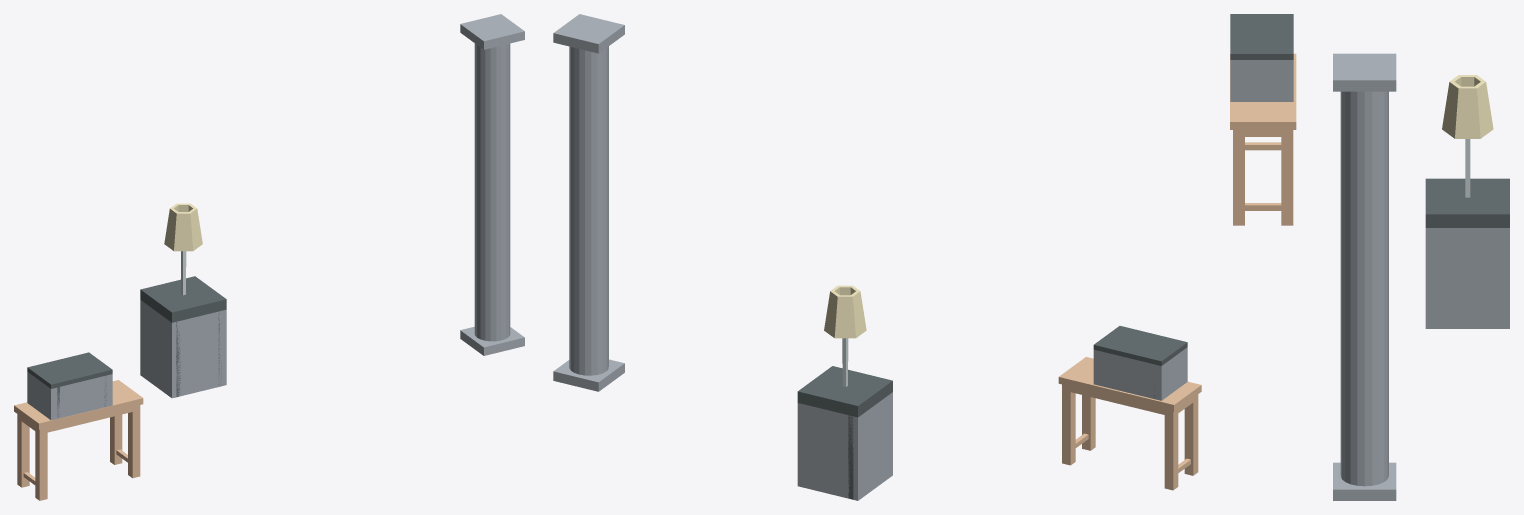
3 views of the same model, side by side, from view 1: azimuth 30°, elevation 25°; view 2: azimuth 150°, elevation 25°; view 3: azimuth 270°, elevation 25° (orthographic). The views are drawn at different scales.
Visible parts, largest first — view 1: column_cyan__column_cyan shaft, bin_gray__bin_gray shell, sidetable_brown__sideTable(Clone), case_brown__case_brown shell, bin_gray__bin_gray lid, case_brown__case_brown lid, lamp_white__lampRoundFloor(Clone), column_cyan__column_cyan capital, column_cyan__column_cyan plinth; view 2: column_cyan__column_cyan shaft, bin_gray__bin_gray shell, sidetable_brown__sideTable(Clone), case_brown__case_brown shell, bin_gray__bin_gray lid, lamp_white__lampRoundFloor(Clone), case_brown__case_brown lid, column_cyan__column_cyan capital, column_cyan__column_cyan plinth; view 3: column_cyan__column_cyan shaft, bin_gray__bin_gray shell, sidetable_brown__sideTable(Clone), bin_gray__bin_gray lid, lamp_white__lampRoundFloor(Clone), case_brown__case_brown lid, case_brown__case_brown shell, column_cyan__column_cyan capital, column_cyan__column_cyan plinth, bin_gray__bin_gray band.
Boxes of the visible parts, x1=… form: column_cyan__column_cyan shaft: x1=474, y1=43, x2=510, y2=341; bin_gray__bin_gray shell: x1=140, y1=300, x2=226, y2=398; sidetable_brown__sideTable(Clone): x1=14, y1=380, x2=143, y2=500; case_brown__case_brown shell: x1=27, y1=372, x2=112, y2=420; bin_gray__bin_gray lid: x1=140, y1=276, x2=226, y2=322; case_brown__case_brown lid: x1=27, y1=352, x2=112, y2=388; lamp_white__lampRoundFloor(Clone): x1=164, y1=203, x2=202, y2=295; column_cyan__column_cyan capital: x1=460, y1=14, x2=524, y2=49; column_cyan__column_cyan plinth: x1=460, y1=326, x2=524, y2=355; column_cyan__column_cyan shaft: x1=569, y1=46, x2=608, y2=375; bin_gray__bin_gray shell: x1=797, y1=392, x2=892, y2=500; sidetable_brown__sideTable(Clone): x1=1058, y1=357, x2=1201, y2=490; case_brown__case_brown shell: x1=1093, y1=347, x2=1187, y2=400; bin_gray__bin_gray lid: x1=797, y1=366, x2=892, y2=417; lamp_white__lampRoundFloor(Clone): x1=824, y1=285, x2=866, y2=386; case_brown__case_brown lid: x1=1093, y1=326, x2=1187, y2=365; column_cyan__column_cyan capital: x1=553, y1=14, x2=624, y2=53; column_cyan__column_cyan plinth: x1=553, y1=359, x2=624, y2=391; column_cyan__column_cyan shaft: x1=1340, y1=91, x2=1388, y2=486; bin_gray__bin_gray shell: x1=1425, y1=228, x2=1509, y2=328; sidetable_brown__sideTable(Clone): x1=1230, y1=53, x2=1296, y2=225; bin_gray__bin_gray lid: x1=1425, y1=178, x2=1509, y2=227; lamp_white__lampRoundFloor(Clone): x1=1442, y1=75, x2=1493, y2=197; case_brown__case_brown lid: x1=1230, y1=14, x2=1293, y2=59; case_brown__case_brown shell: x1=1230, y1=60, x2=1293, y2=101; column_cyan__column_cyan capital: x1=1333, y1=53, x2=1396, y2=91; column_cyan__column_cyan plinth: x1=1333, y1=462, x2=1396, y2=500; bin_gray__bin_gray band: x1=1425, y1=181, x2=1509, y2=184.
Bounding box in the file's own units: 3.84 × 2.2 × 1.33.
